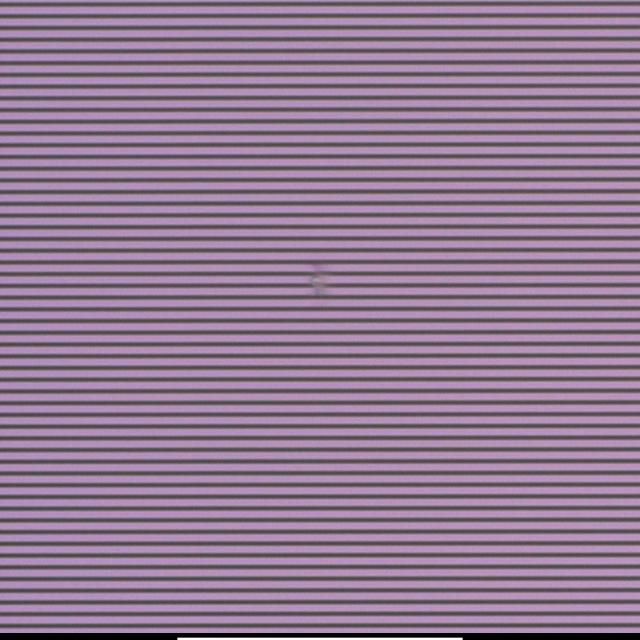nonvisual: (308, 258, 331, 300)
